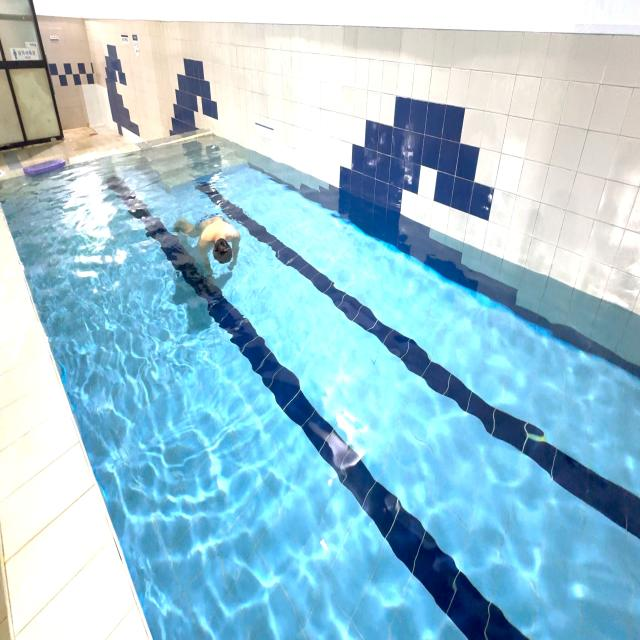Drowning: (168, 192, 253, 287)
